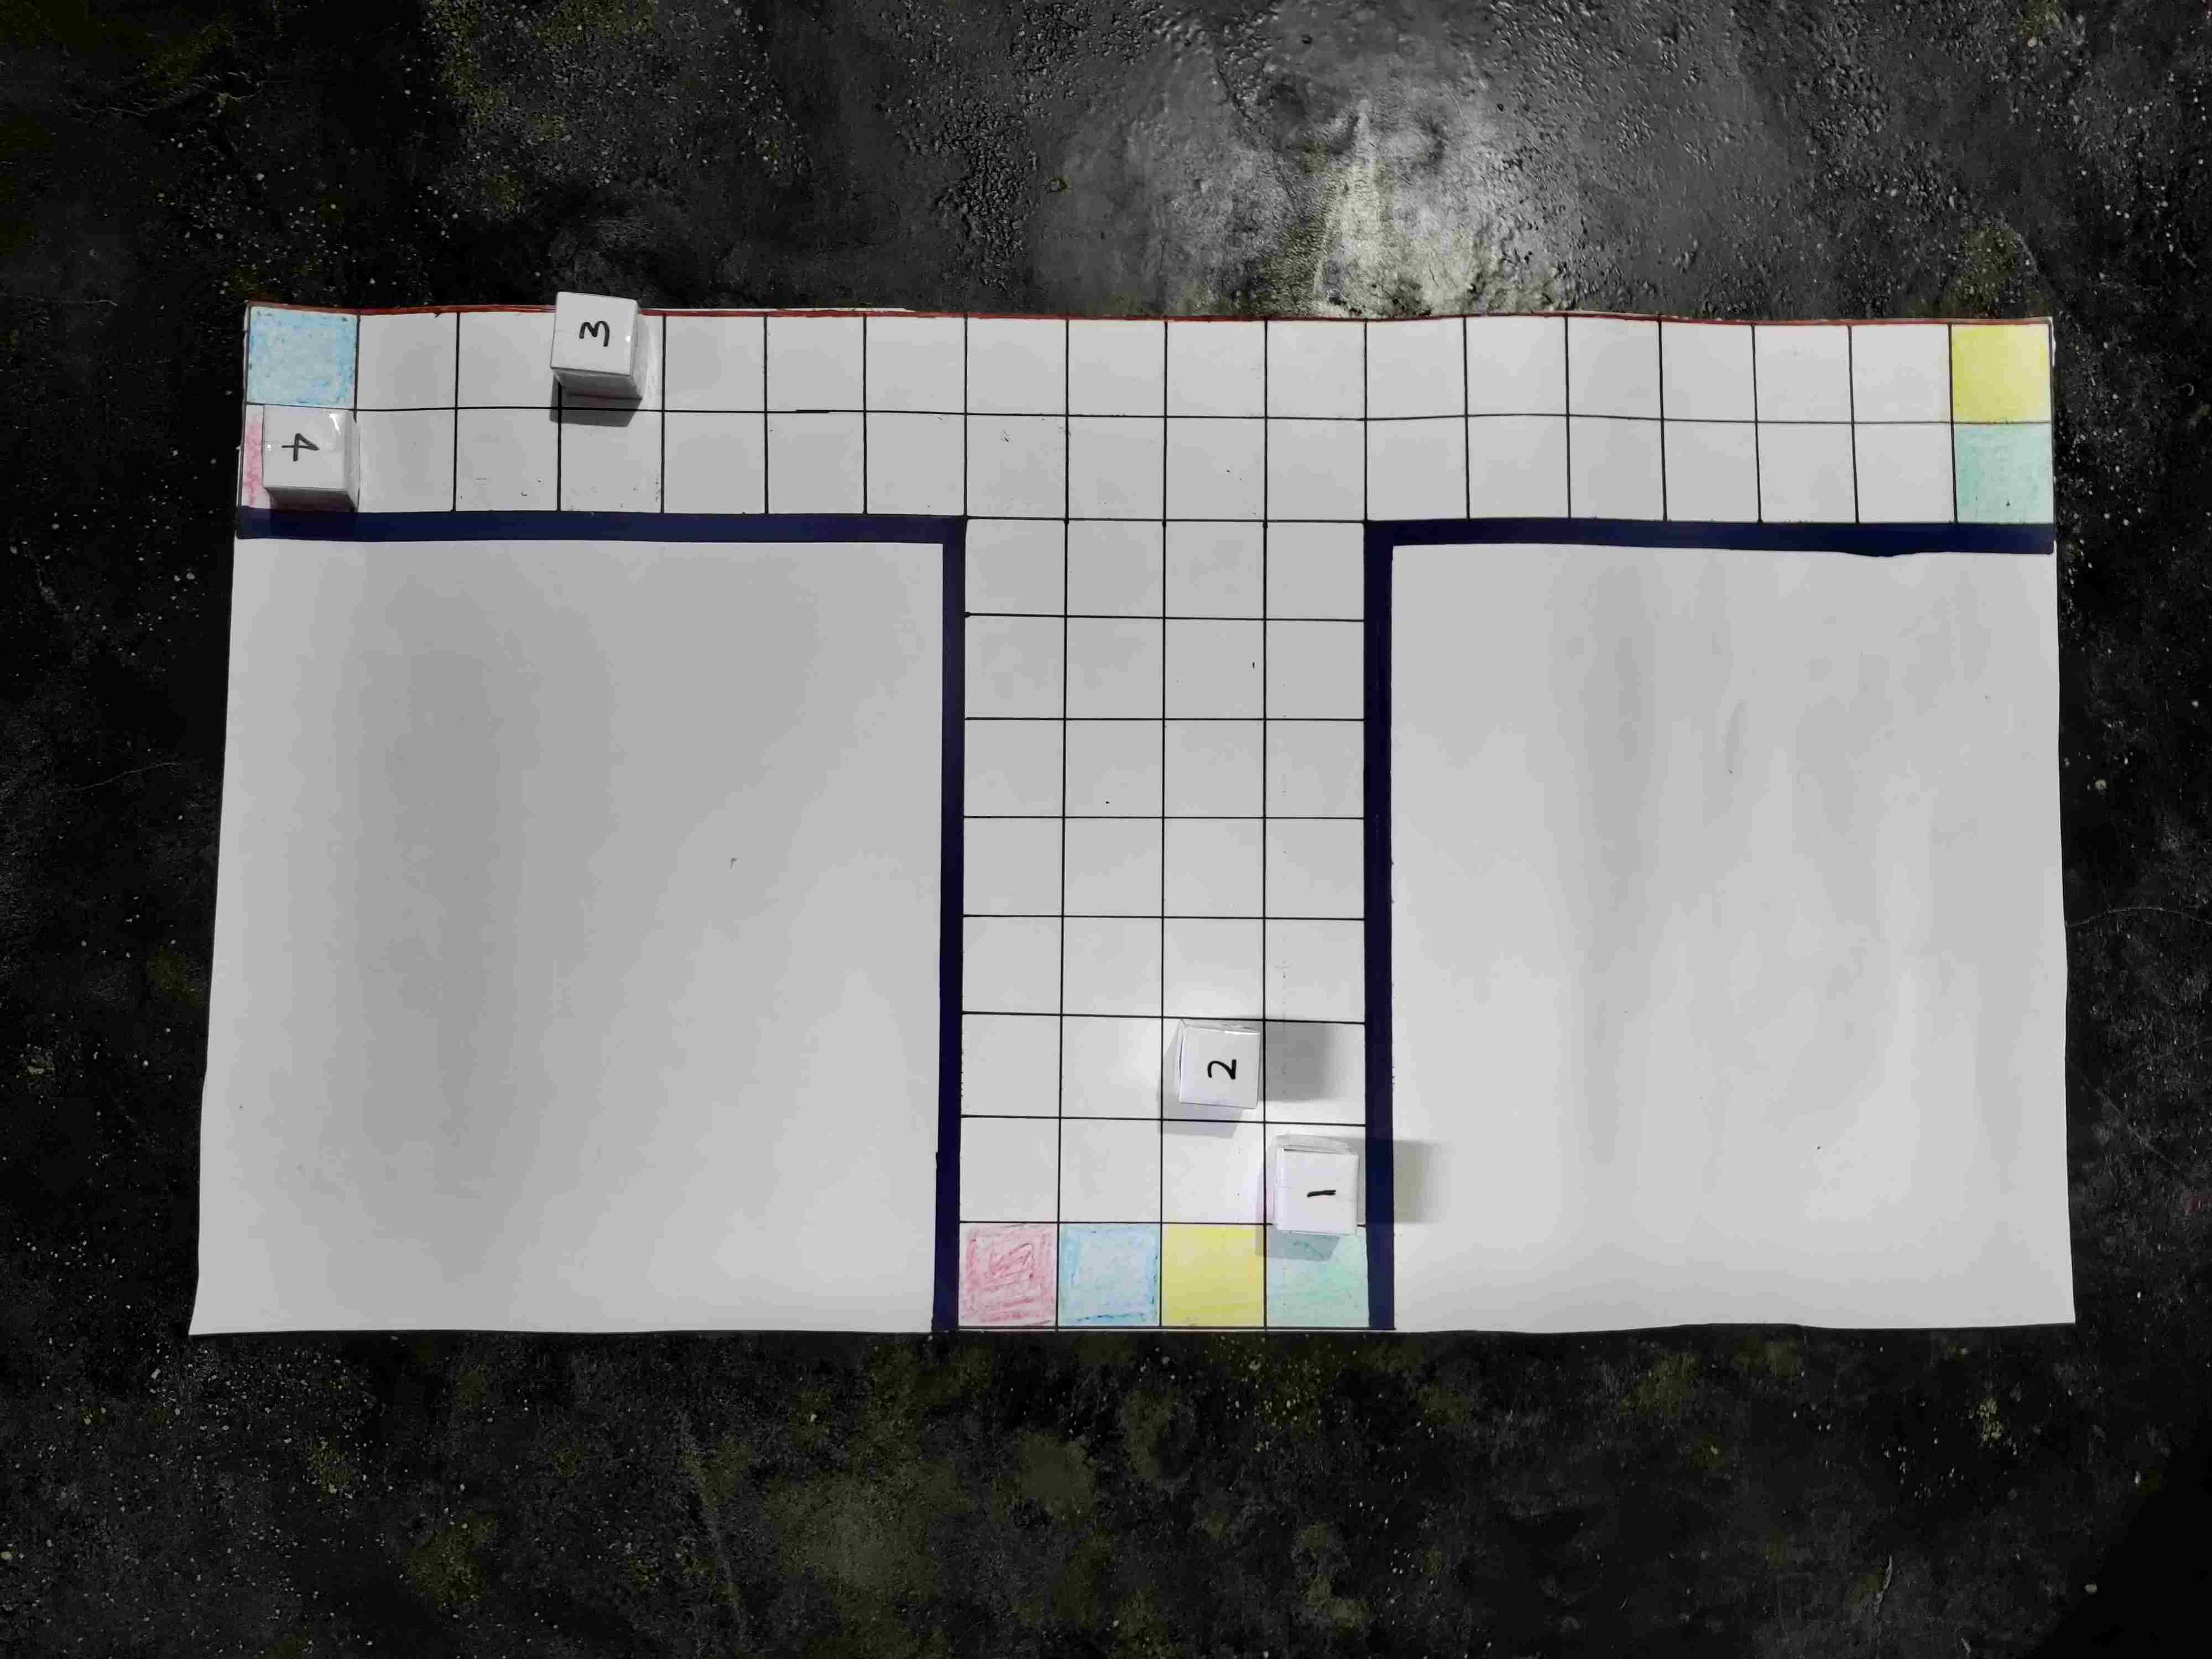arena: (167, 322, 2116, 1436)
bot: (465, 1192, 549, 1288), (1935, 1229, 2022, 1312), (1150, 450, 1230, 530), (1035, 579, 1113, 660)
